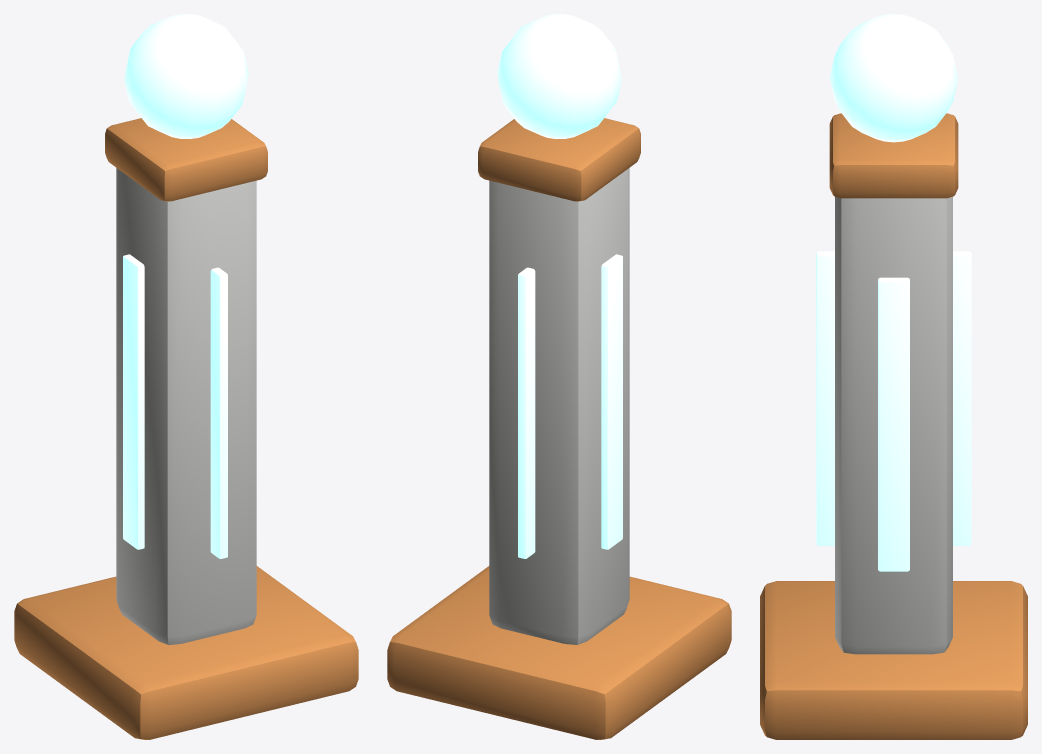
The model's file is powerpost.glb.
3 renders of one model, left to right at view 1: azimuth 30°, elevation 25°; view 2: azimuth 150°, elevation 25°; view 3: azimuth 270°, elevation 25°, orthographic. The views are drawn at different scales.
Parts seen in each view (by area): view 1: Body; view 2: Body; view 3: Body.
Boxes of the visible parts, x1,y1,x2,y2 form: Body: (14,14,358,739); Body: (387,14,731,739); Body: (760,14,1027,739).
Bounding box in the file's own units: 0.5 × 1.38 × 0.5.
